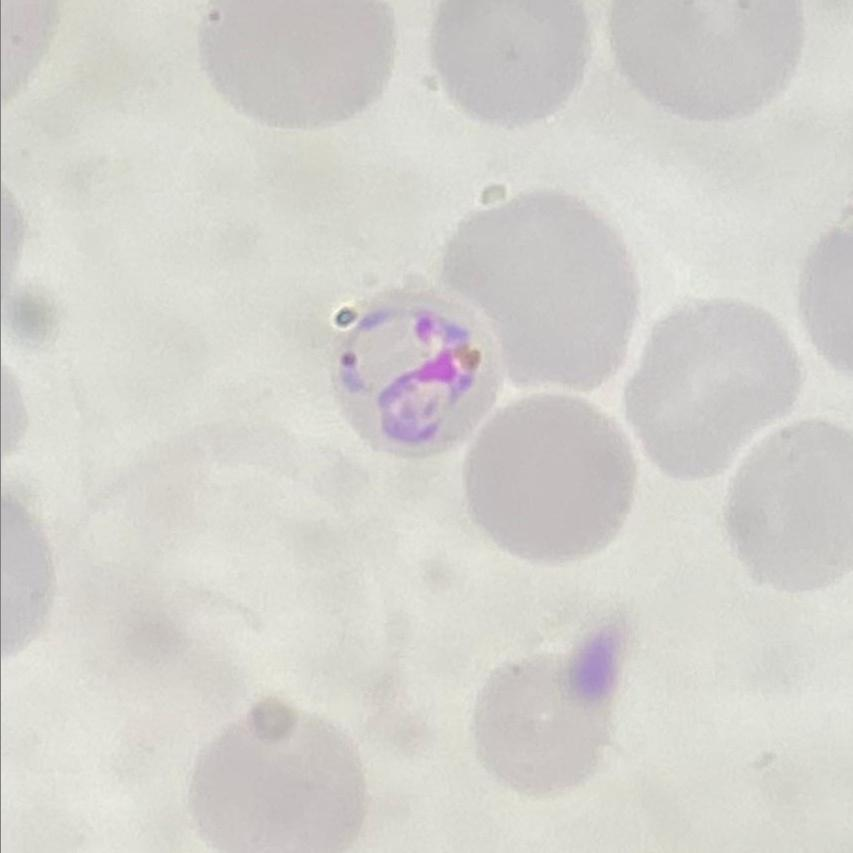Infected: (330, 281, 509, 460)
Uninfected: (446, 191, 639, 389), (630, 299, 806, 478), (469, 391, 638, 565), (200, 0, 399, 129), (194, 715, 370, 853), (612, 0, 807, 120), (726, 415, 853, 597), (432, 0, 589, 129), (474, 657, 611, 792)
